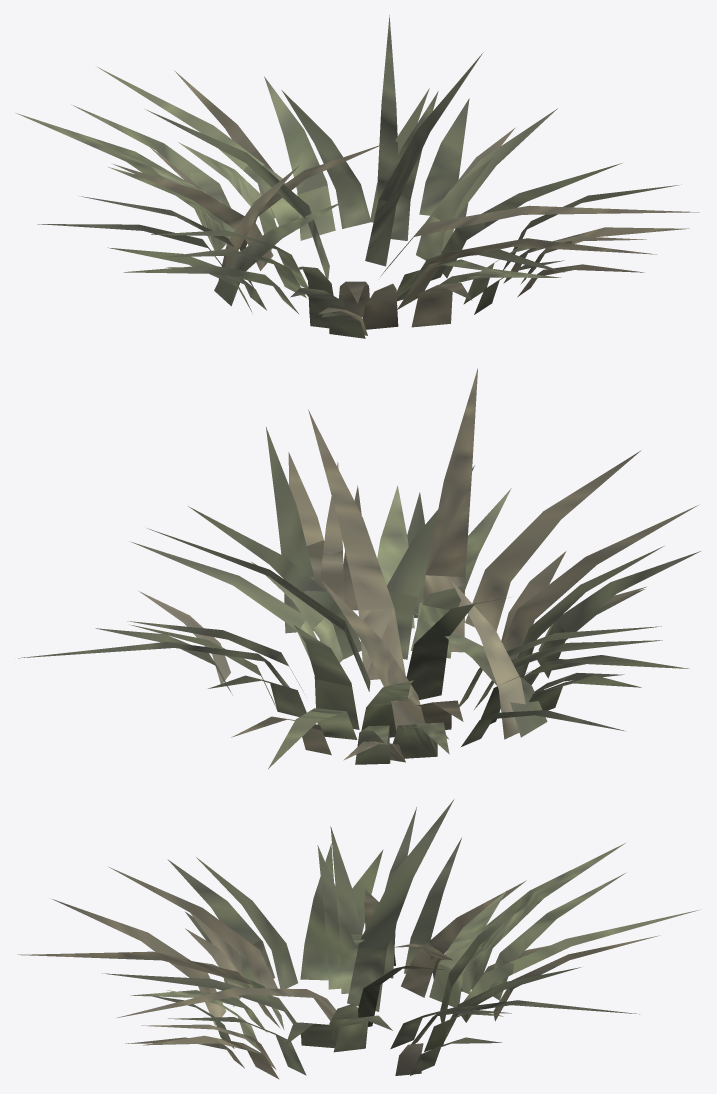
File: grass_sedge_02.glb
The picture shows the model from 3 angles, top to bottom: view 1: azimuth 30°, elevation 25°; view 2: azimuth 150°, elevation 25°; view 3: azimuth 270°, elevation 25°; orthographic projection. The views are drawn at different scales.
Parts seen in each view (by area): view 1: grass_sedge_02; view 2: grass_sedge_02; view 3: grass_sedge_02.
Part boxes in pixels (x1,y1,x2,y2): grass_sedge_02: [16, 15, 699, 338]; grass_sedge_02: [18, 368, 700, 768]; grass_sedge_02: [17, 799, 700, 1079].
Bounding box in the file's own units: 0.7087 × 0.2234 × 0.9364.
Materials: 1 (1 with a texture image).
